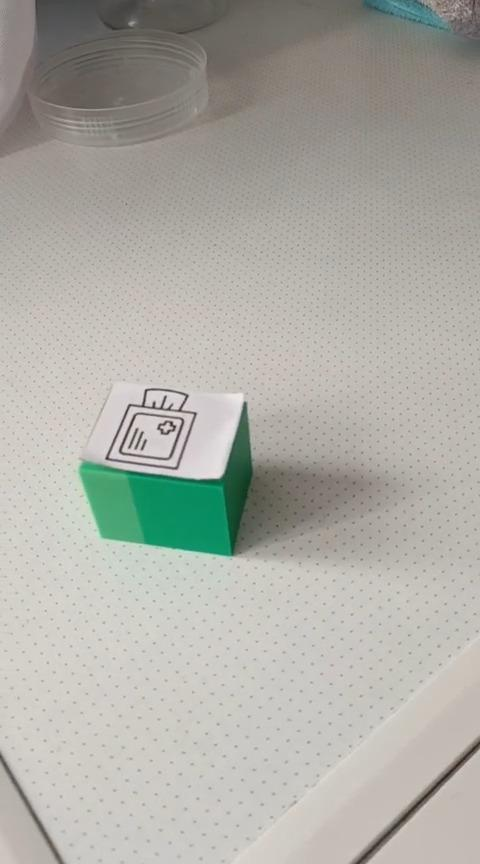Gauze: (77, 380, 253, 557)
